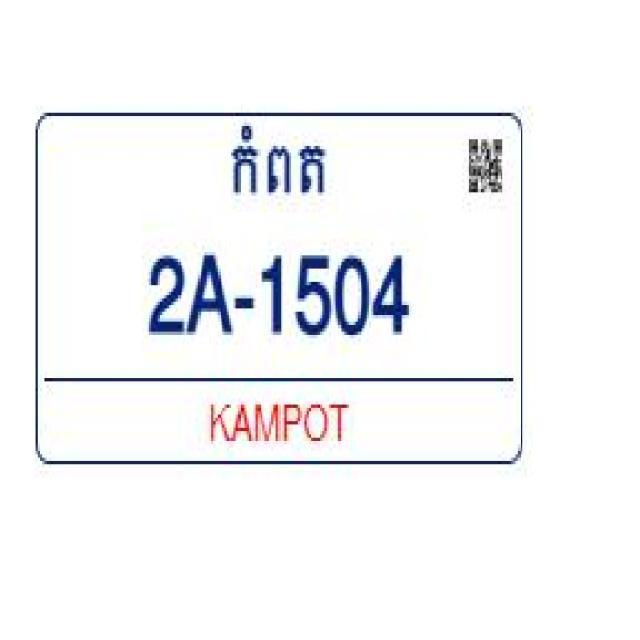Kampot: (218, 116, 334, 218)
